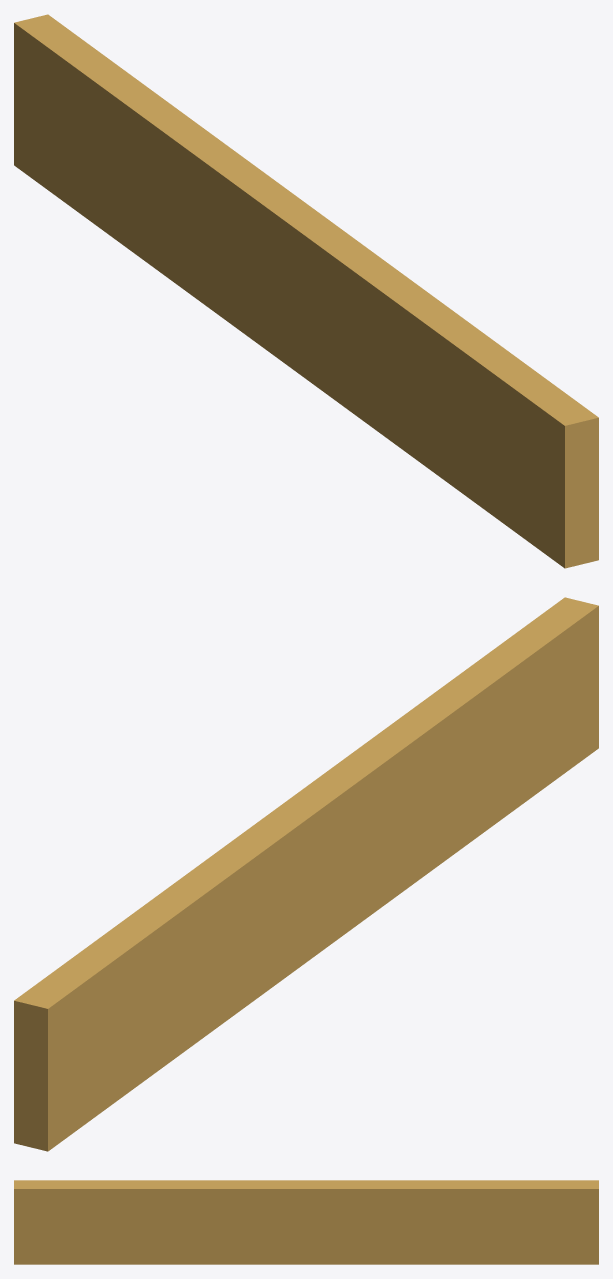
Rendered from pared2a.obj.
The picture shows the model from 3 angles, top to bottom: view 1: azimuth 30°, elevation 25°; view 2: azimuth 150°, elevation 25°; view 3: azimuth 270°, elevation 25°; orthographic projection. The views are drawn at different scales.
Visible parts, largest first — view 1: Wall.065; view 2: Wall.065; view 3: Wall.065.
Part boxes in pixels (x1,y1,x2,y2): Wall.065: (14,14,598,568); Wall.065: (14,597,598,1151); Wall.065: (14,1180,598,1264).
Bounding box in the file's own units: 1 × 4 × 28.
7 materials, 7 textured.
